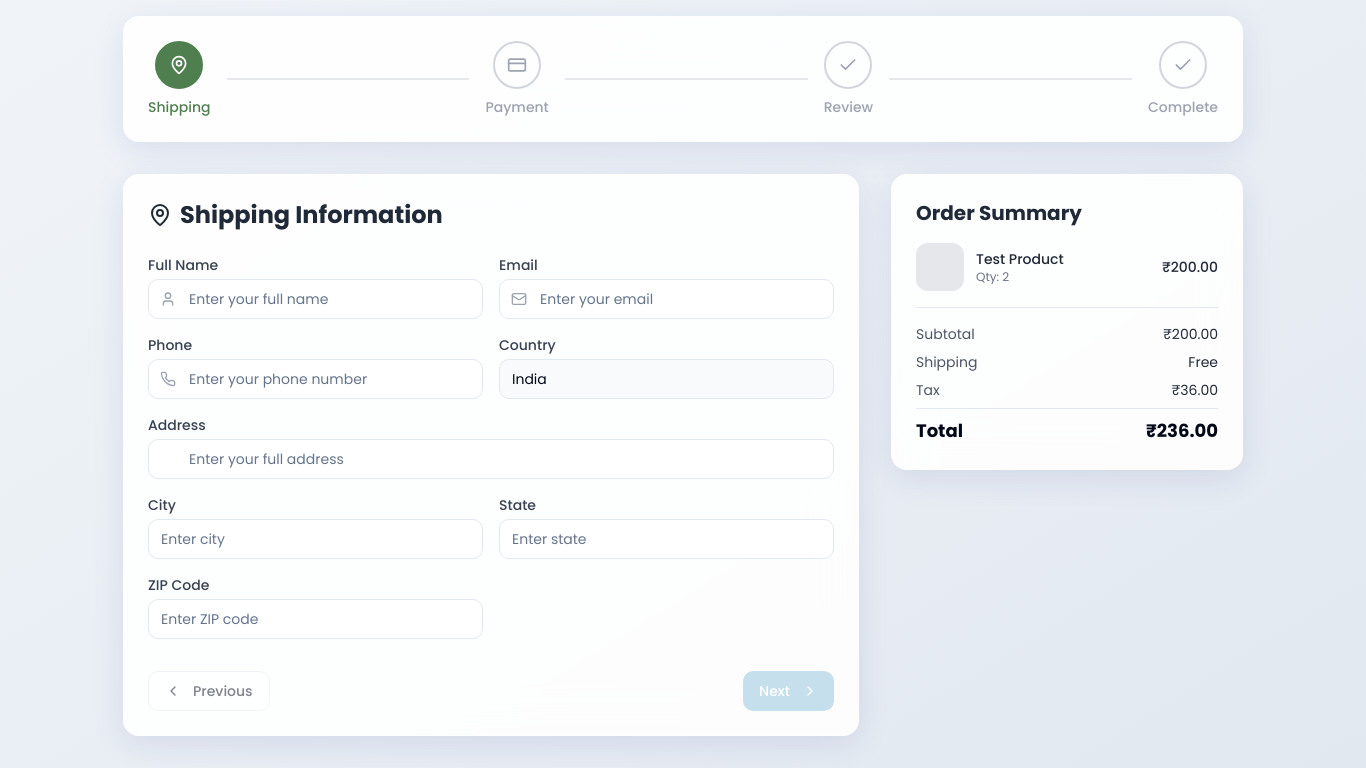
Test: Checkout › validates shipping information
(page scrolled)
# Try to proceed without filling required fields
Click the button "Next" at (789, 691), box [743,671,834,711]
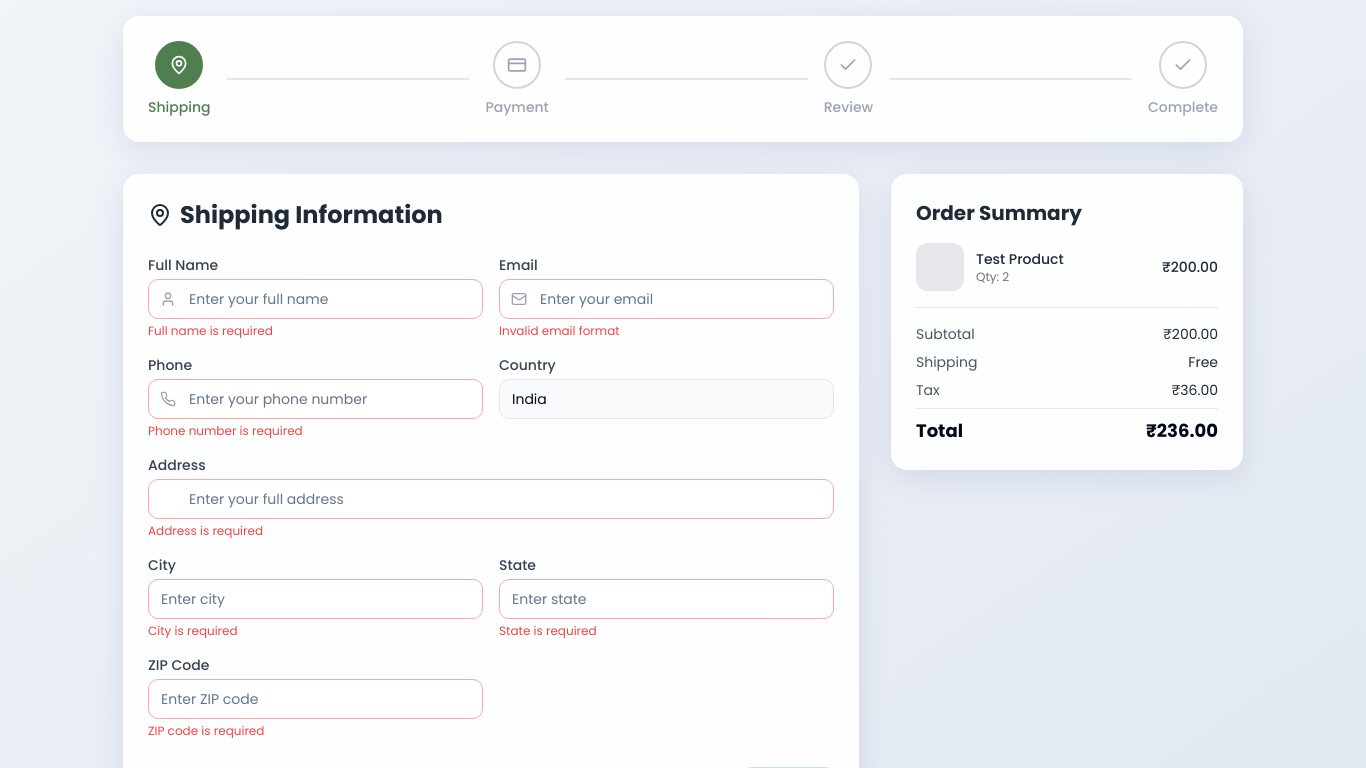
Expected: the text "Full name is required" is shown, [148,322,273,339]
